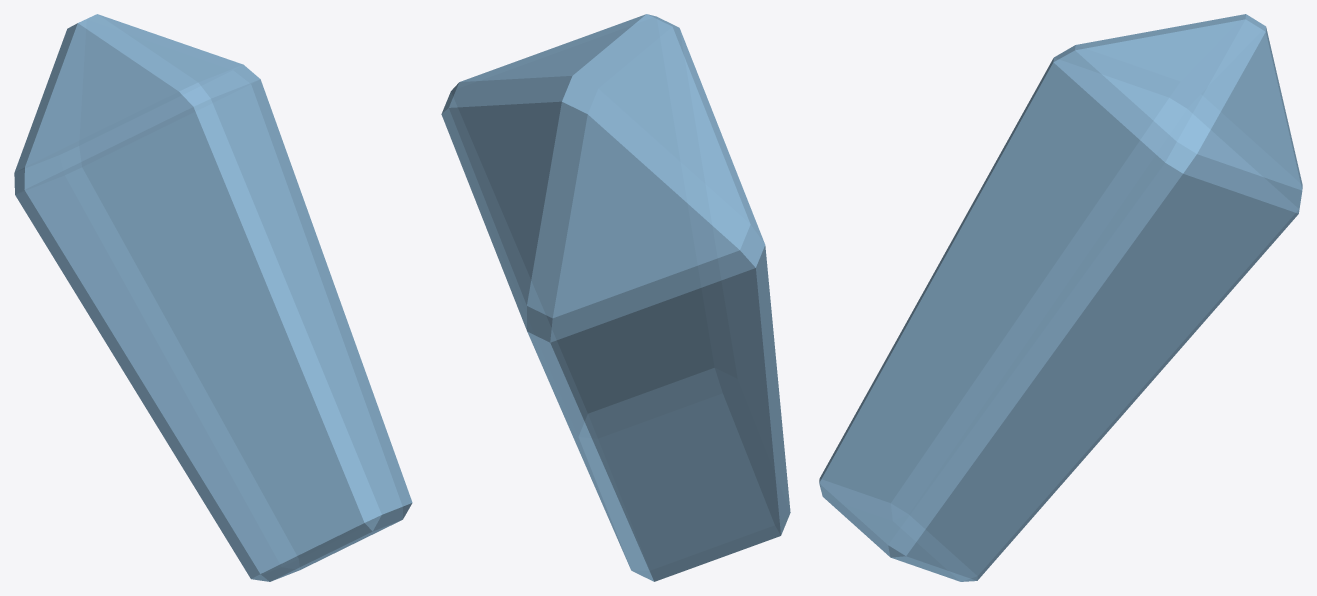
Rendered from Crystal1.glb.
3 renders of one model, left to right at view 1: azimuth 30°, elevation 25°; view 2: azimuth 150°, elevation 25°; view 3: azimuth 270°, elevation 25°, orthographic. The views are drawn at different scales.
Parts seen in each view (by area): view 1: Crystal.001; view 2: Crystal.001; view 3: Crystal.001.
Part boxes in pixels (x1,y1,x2,y2): Crystal.001: (14,14,412,581); Crystal.001: (441,14,790,581); Crystal.001: (819,14,1302,581).
Size of the model in its own units: 0.2941 by 0.5158 by 0.4315.
